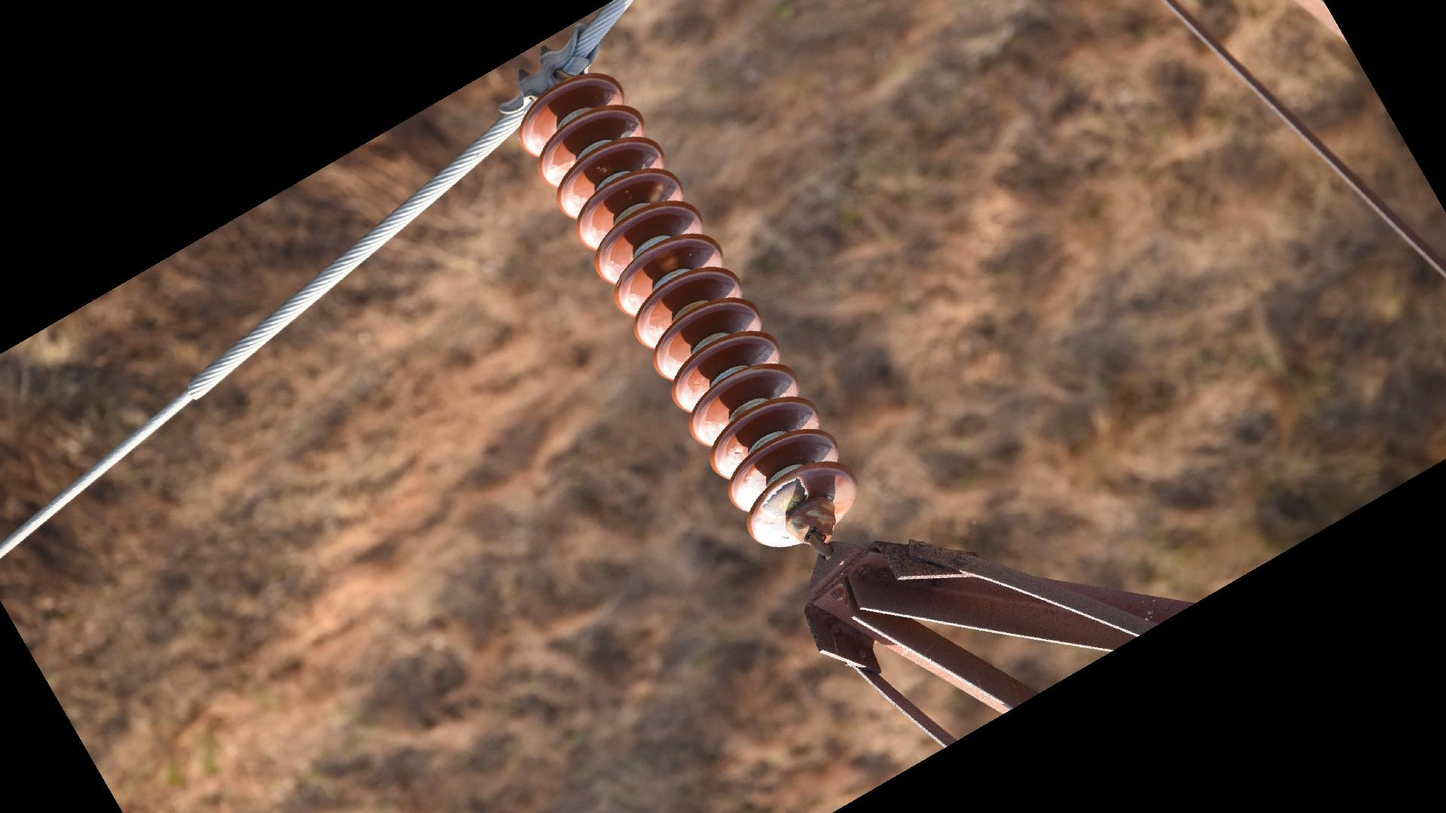insulator: (513, 72, 861, 556)
insulator_flashover: (760, 474, 813, 525), (645, 181, 667, 205)
